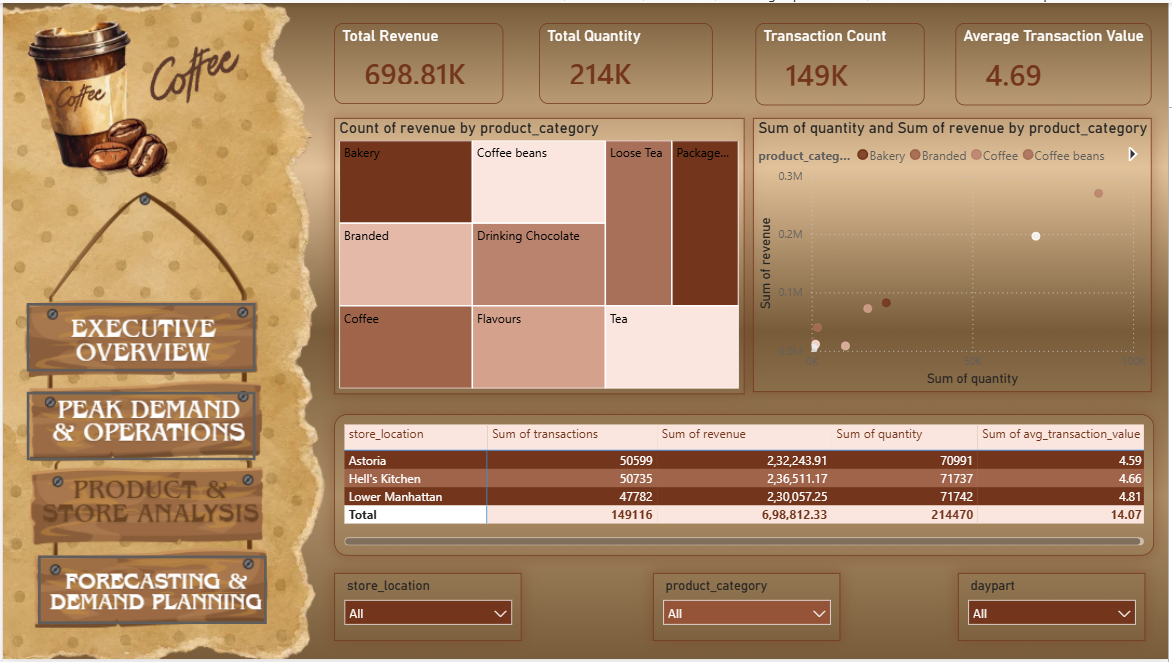

Layout of this report page (visuals, bound fields, positions):
{"tool":"powerbi","page":{"name":"Product & Store Analysis page","canvas":[1280,720],"ordinal":3},"visuals":[{"type":"treemap","fields":{"Group":["category_summary.product_category"],"Values":["CountNonNull(category_summary.revenue)"]},"box":[363.6,126.2,450.1,303.3],"z":0},{"type":"scatterChart","fields":{"X":["category_summary.quantity"],"Series":["category_summary.product_category"],"Y":["Sum(category_summary.revenue)"]},"box":[823.3,126.2,437.7,300.5],"z":1000},{"type":"pivotTable","fields":{"Rows":["store_summary.store_location"],"Values":["Sum(store_summary.transactions)","Sum(store_summary.revenue)","Sum(store_summary.quantity)","Sum(store_summary.avg_transaction_value)"]},"box":[363.6,451.5,900.2,155.1],"z":2000},{"type":"cardVisual","title":"Total Revenue","fields":{"Data":["transactions_clean.Total Revenue"]},"box":[363.6,22,185.2,89.2],"z":3000},{"type":"cardVisual","title":"Total Quantity","fields":{"Data":["transactions_clean.Total Quantity"]},"box":[588.7,22,190.7,89.2],"z":4000},{"type":"cardVisual","title":"Transaction Count","fields":{"Data":["transactions_clean.Transaction Count"]},"box":[826.1,22,185.2,90.6],"z":5000},{"type":"cardVisual","title":"Average Transaction Value","fields":{"Data":["transactions_clean.Average Transaction Value"]},"box":[1045.6,22,215.4,90.6],"z":6000},{"type":"slicer","fields":{"Values":["transactions_clean.store_location"]},"box":[363.6,625.7,205.8,74.1],"z":7000},{"type":"slicer","fields":{"Values":["transactions_clean.product_category"]},"box":[713.6,625.7,205.8,74.1],"z":8000},{"type":"slicer","fields":{"Values":["transactions_clean.daypart"]},"box":[1048.4,625.7,205.8,74.1],"z":9000},{"type":"actionButton","box":[26.1,329.3,251.1,75.5],"z":10000},{"type":"actionButton","box":[26.1,426.8,251.1,75.5],"z":11000},{"type":"actionButton","box":[38.4,606.5,251.1,75.5],"z":12000}]}

Visuals, with their boxes in screenshot pixels (x1, y1, x2, y2), scaled from the page's 1280x720 canvas onto the 1172x662 screenshot:
treemap - category_summary.product_category x CountNonNull(category_summary.revenue): bbox(333, 116, 745, 395)
scatterChart - category_summary.quantity x category_summary.product_category: bbox(754, 116, 1155, 392)
pivotTable - store_summary.store_location x Sum(store_summary.transactions): bbox(333, 415, 1157, 558)
"Total Revenue" cardVisual: bbox(333, 20, 502, 102)
"Total Quantity" cardVisual: bbox(539, 20, 714, 102)
"Transaction Count" cardVisual: bbox(756, 20, 926, 104)
"Average Transaction Value" cardVisual: bbox(957, 20, 1155, 104)
slicer - transactions_clean.store_location: bbox(333, 575, 521, 643)
slicer - transactions_clean.product_category: bbox(653, 575, 842, 643)
slicer - transactions_clean.daypart: bbox(960, 575, 1148, 643)
actionButton: bbox(24, 303, 254, 372)
actionButton: bbox(24, 392, 254, 462)
actionButton: bbox(35, 558, 265, 627)
